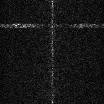wifi: (1, 23, 104, 27)
